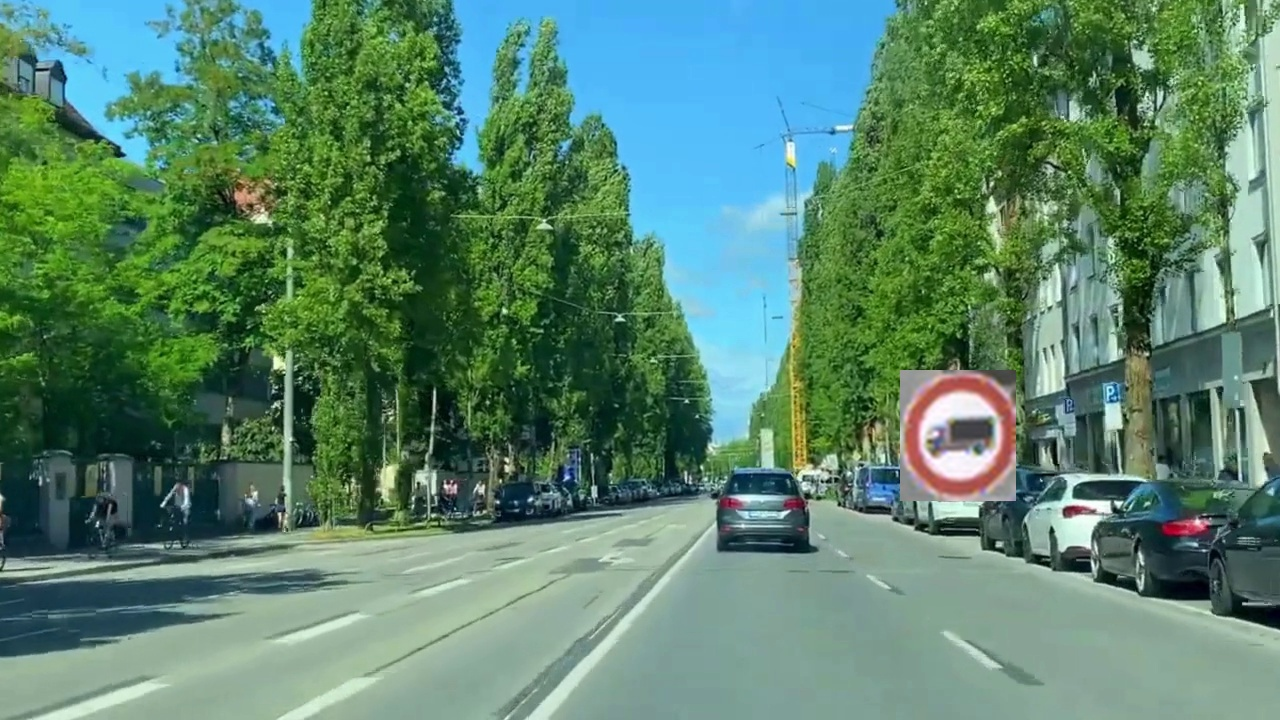Veh >3.5t prohib: (900, 370, 1016, 501)
